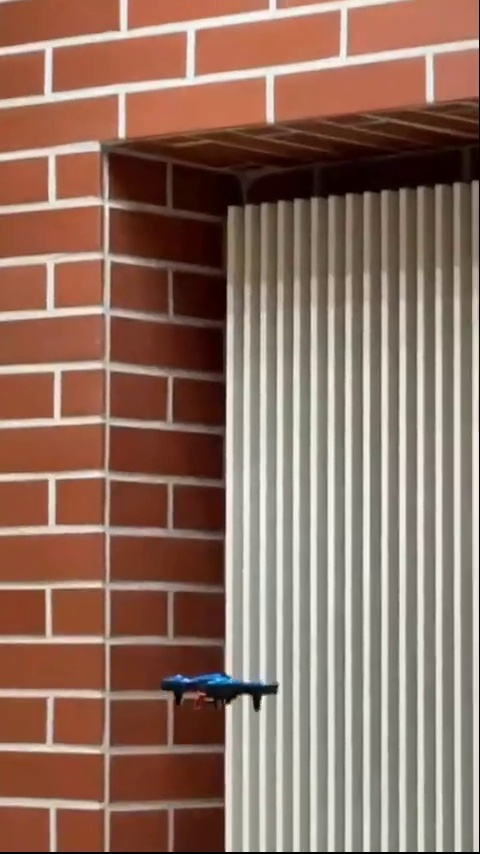drone: (164, 664, 283, 716)
